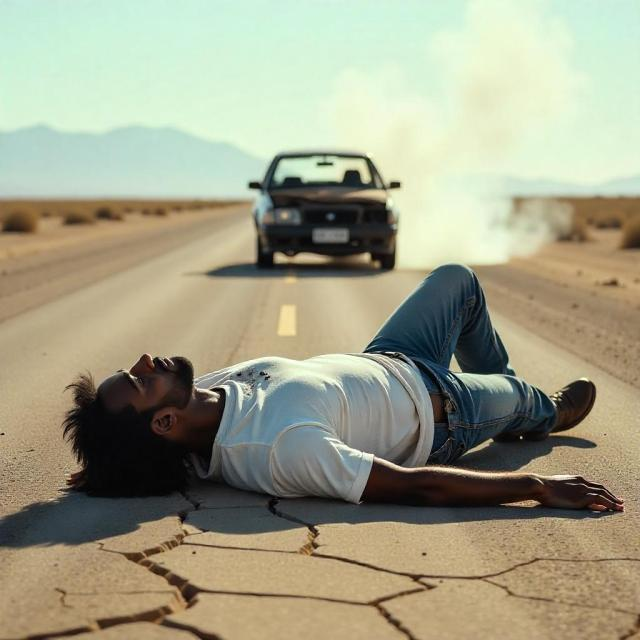injury: (62, 354, 224, 496)
no injury: (62, 266, 624, 512)
